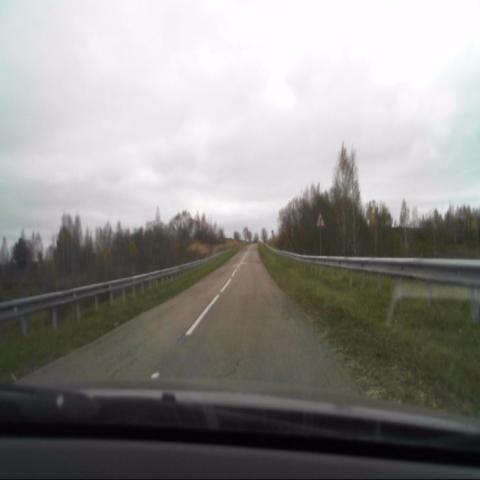1_11: (314, 210, 326, 229)
